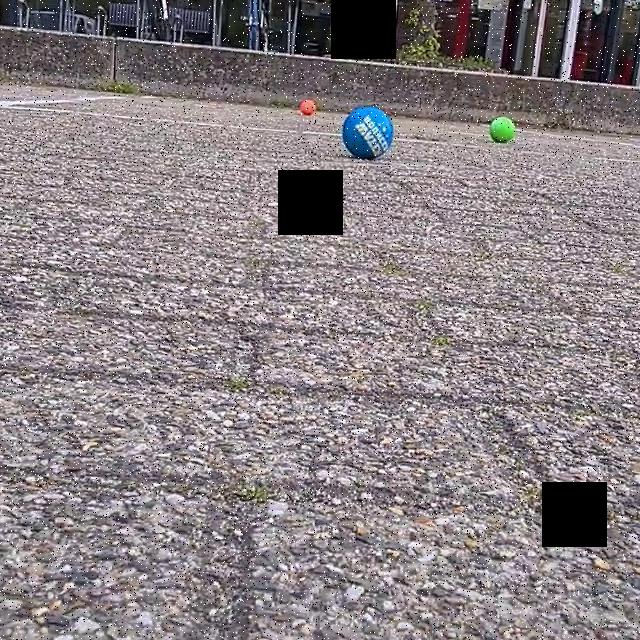ball: (488, 114, 516, 144), (300, 98, 318, 117)
